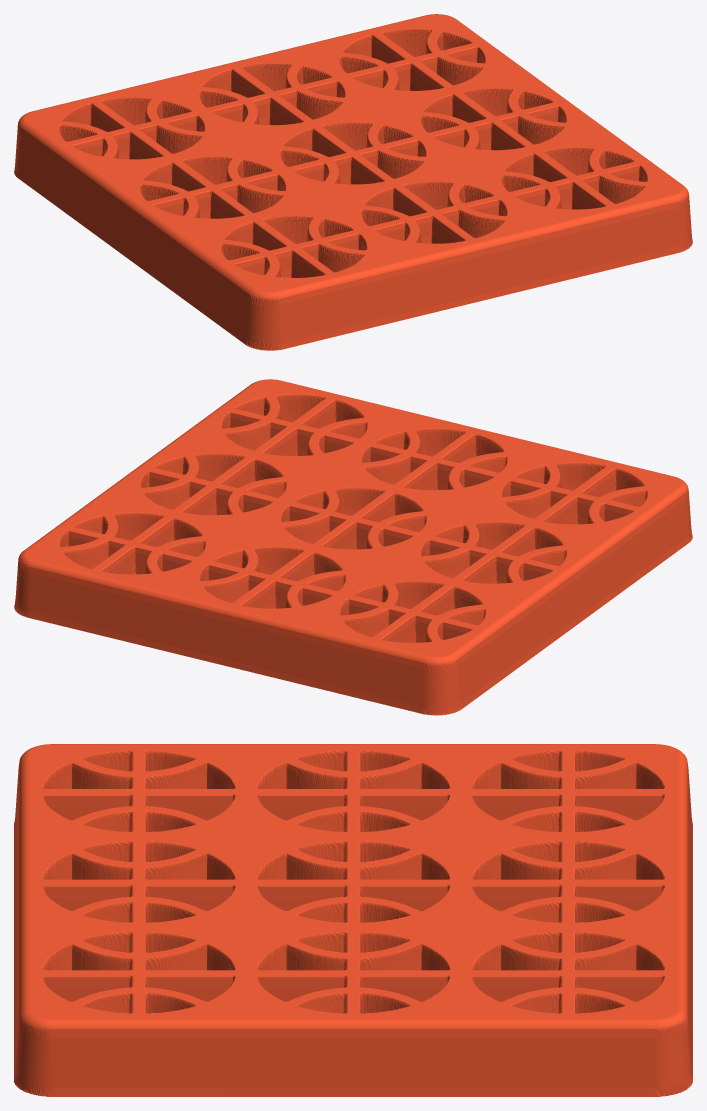
Rendered from mold.glb.
3 renders of one model, top to bottom at view 1: azimuth 30°, elevation 25°; view 2: azimuth 150°, elevation 25°; view 3: azimuth 270°, elevation 25°, orthographic. The views are drawn at different scales.
Parts seen in each view (by area): view 1: geometry_0; view 2: geometry_0; view 3: geometry_0.
Boxes of the visible parts, <box> form: geometry_0: <box>14,14,692,350</box>; geometry_0: <box>14,379,692,715</box>; geometry_0: <box>14,744,692,1096</box>.
Size of the model in its own units: 0.1595 by 0.0185 by 0.1595.
